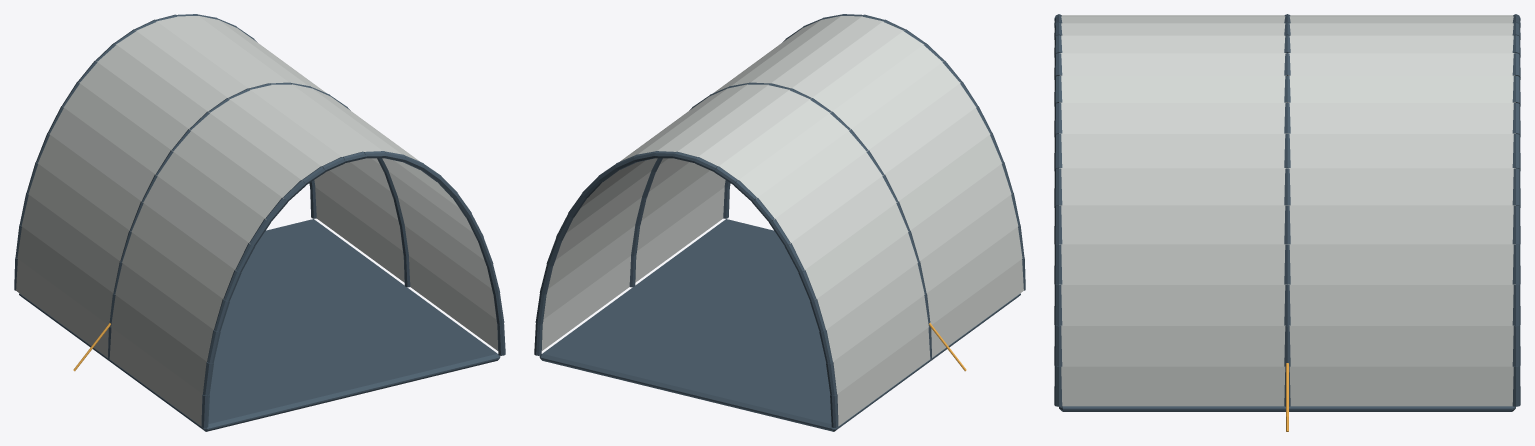
3 renders of one model, left to right at view 1: azimuth 30°, elevation 25°; view 2: azimuth 150°, elevation 25°; view 3: azimuth 270°, elevation 25°, orthographic. The views are drawn at different scales.
Visible parts, largest first — view 1: ME-058 Open-ended surface repair shelter batched; view 2: ME-058 Open-ended surface repair shelter batched; view 3: ME-058 Open-ended surface repair shelter batched.
Boxes of the visible parts, x1,y1,x2,y2 form: ME-058 Open-ended surface repair shelter batched: [14, 14, 505, 431]; ME-058 Open-ended surface repair shelter batched: [534, 14, 1025, 431]; ME-058 Open-ended surface repair shelter batched: [1054, 14, 1520, 431].
Bounding box in the file's own units: 2.76 × 1.72 × 2.45.
